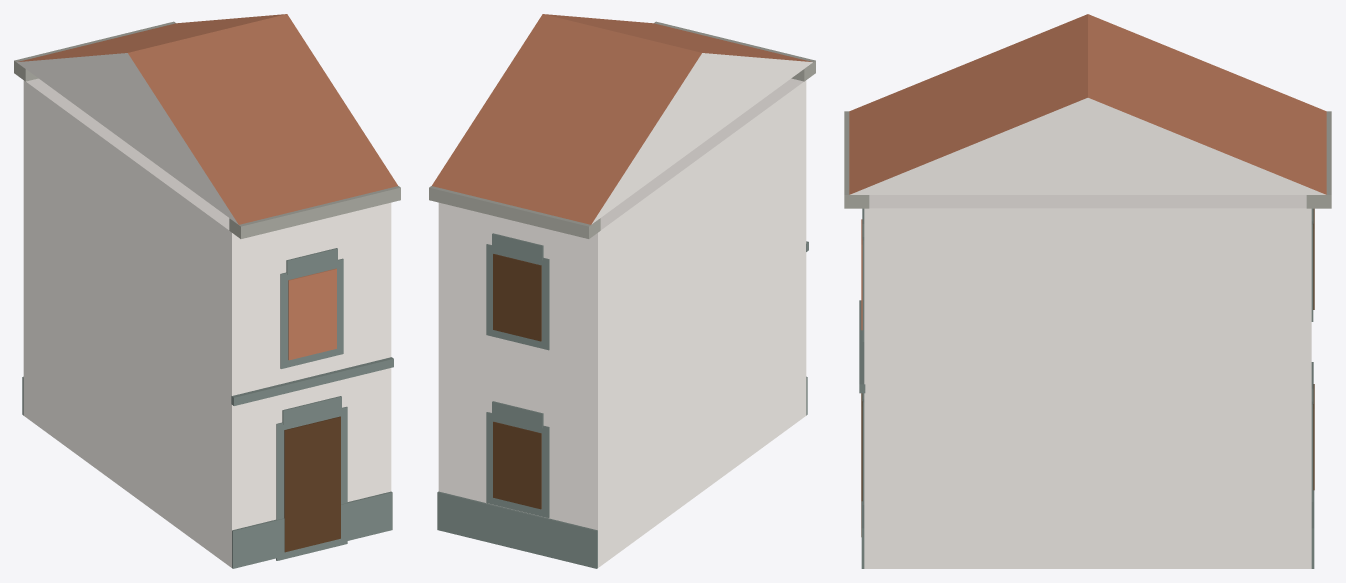
File: SM_KitCuerpo_v1_LOD0.fbx
3 renders of one model, left to right at view 1: azimuth 30°, elevation 25°; view 2: azimuth 150°, elevation 25°; view 3: azimuth 270°, elevation 25°, orthographic. The views are drawn at different scales.
Visible parts, largest first — view 1: SM_bloques.kit_cuerpo_v1_LOD0; view 2: SM_bloques.kit_cuerpo_v1_LOD0; view 3: SM_bloques.kit_cuerpo_v1_LOD0.
Part boxes in pixels (bbox=[...]): SM_bloques.kit_cuerpo_v1_LOD0: bbox=[14, 14, 400, 568]; SM_bloques.kit_cuerpo_v1_LOD0: bbox=[429, 14, 815, 568]; SM_bloques.kit_cuerpo_v1_LOD0: bbox=[844, 14, 1331, 568].
Bounding box in the file's own units: 3.99 × 10.54 × 9.8.
